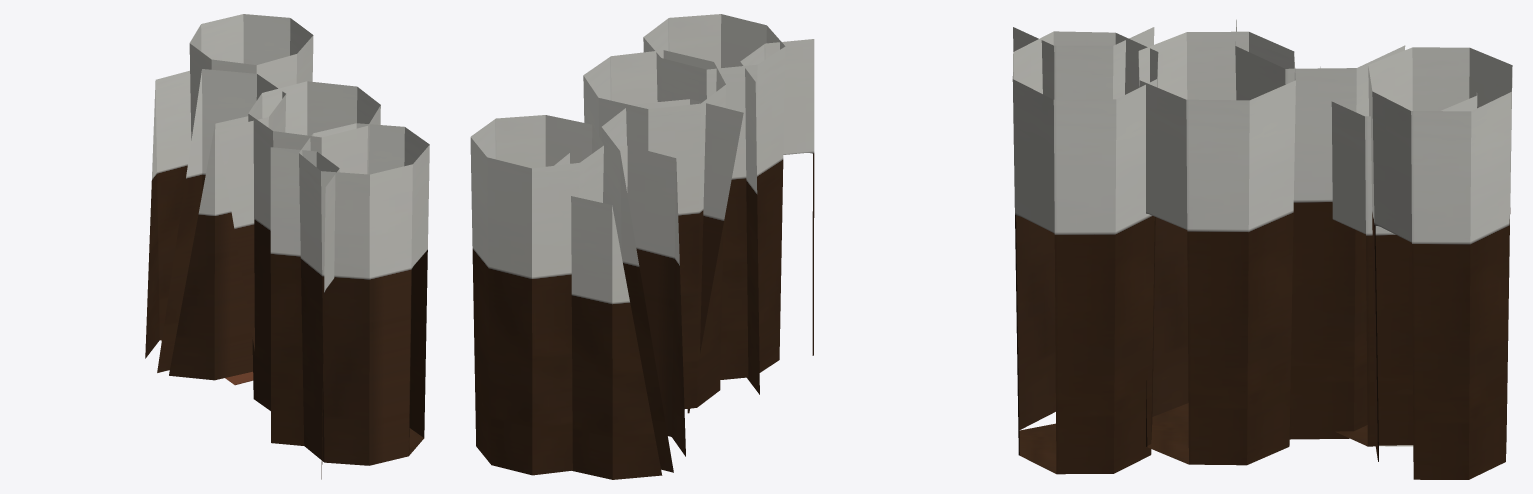
The picture shows the model from 3 angles, left to right: view 1: azimuth 30°, elevation 25°; view 2: azimuth 150°, elevation 25°; view 3: azimuth 270°, elevation 25°; orthographic projection. The views are drawn at different scales.
Bounding box in the file's own units: 1.53 × 1.66 × 2.26.
